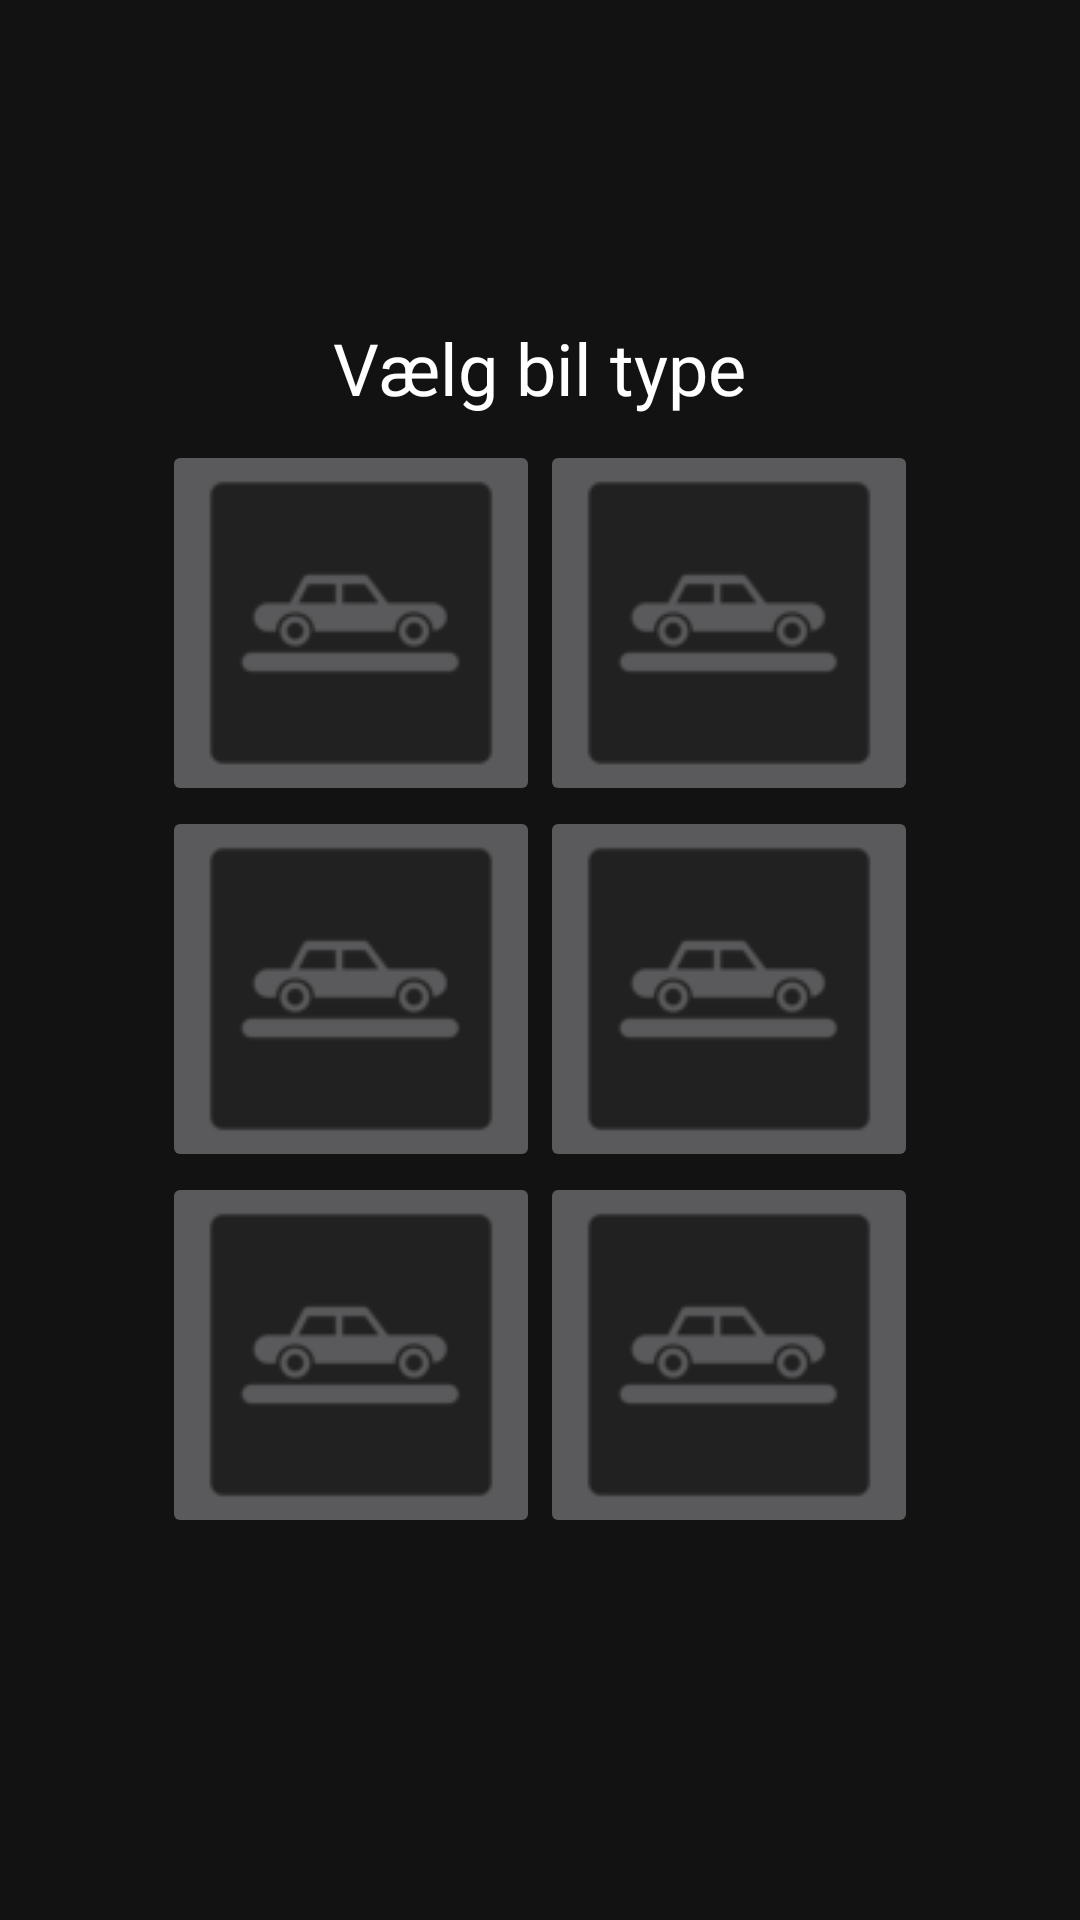

Locate icon controls on the screen. Image size 1080px×1920px, boxes as [x1,y1,x2,y2].
car: [174,458,528,788], [552,458,906,788], [174,824,528,1154], [552,824,906,1154], [174,1190,528,1520], [552,1190,906,1520]
